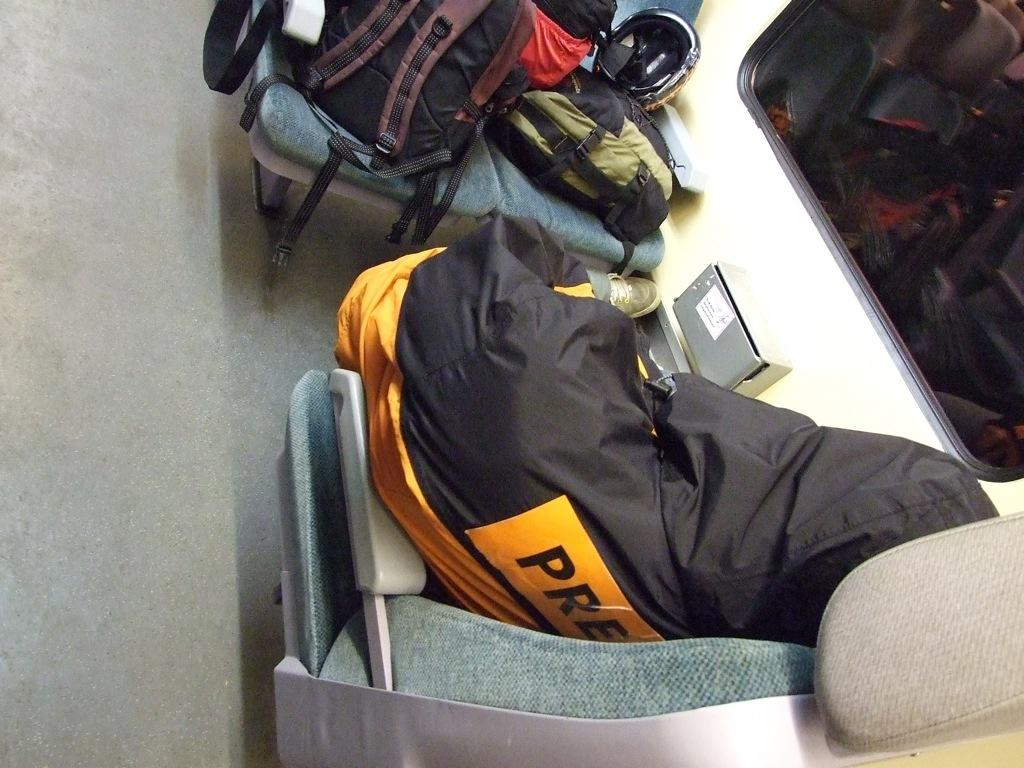Luggage-and-bags: (308, 167, 946, 719), (245, 0, 540, 245), (494, 64, 674, 277), (516, 17, 594, 93), (540, 0, 617, 60)
